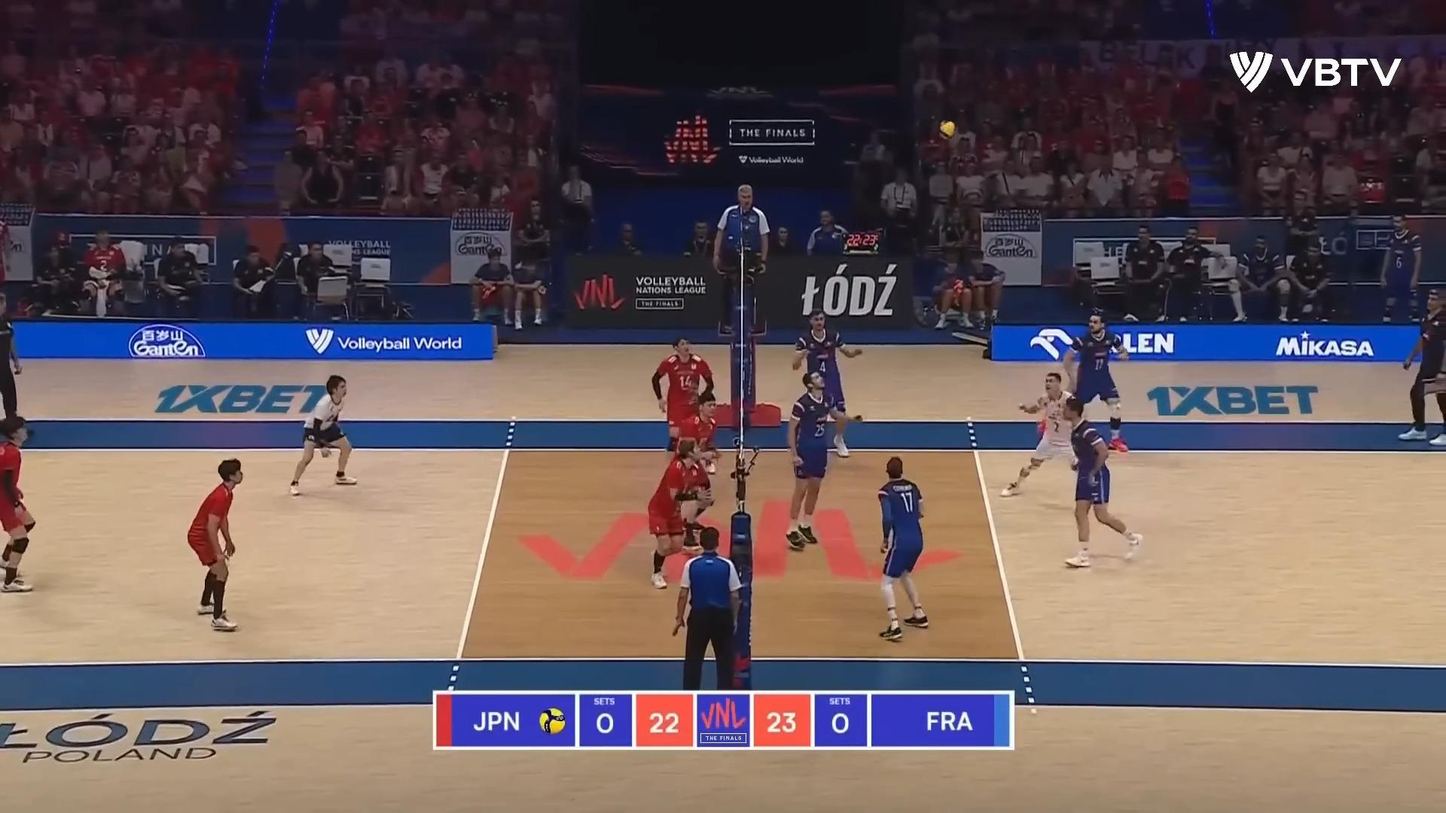ball: (940, 119, 957, 140)
